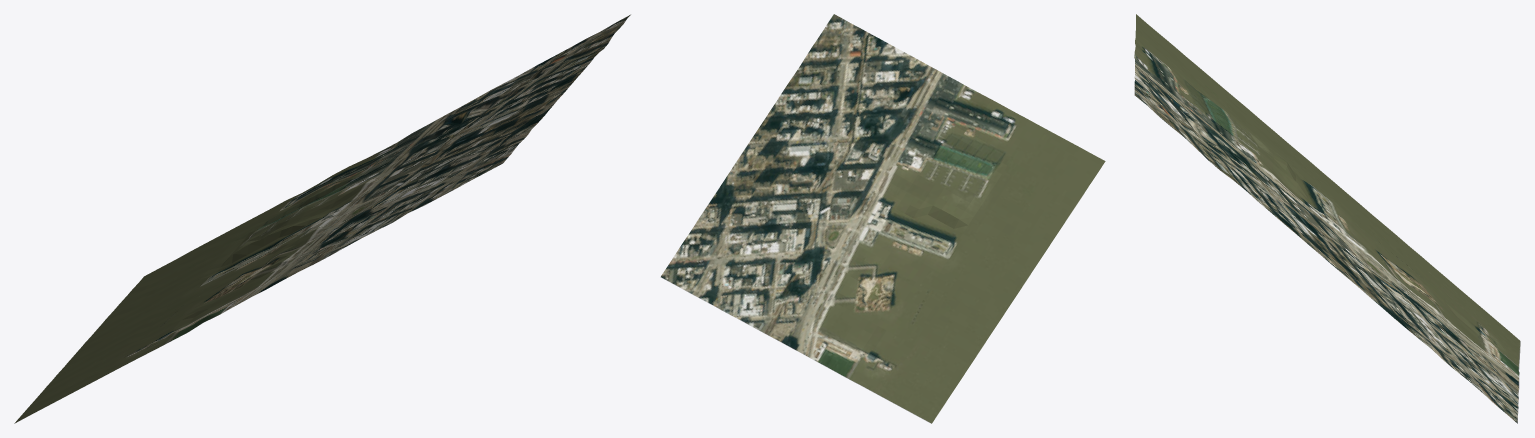
The picture shows the model from 3 angles, left to right: view 1: azimuth 30°, elevation 25°; view 2: azimuth 150°, elevation 25°; view 3: azimuth 270°, elevation 25°; orthographic projection. The views are drawn at different scales.
Size of the model in its own units: 1060 by 832 by 704.
Materials: 1 (1 with a texture image).
